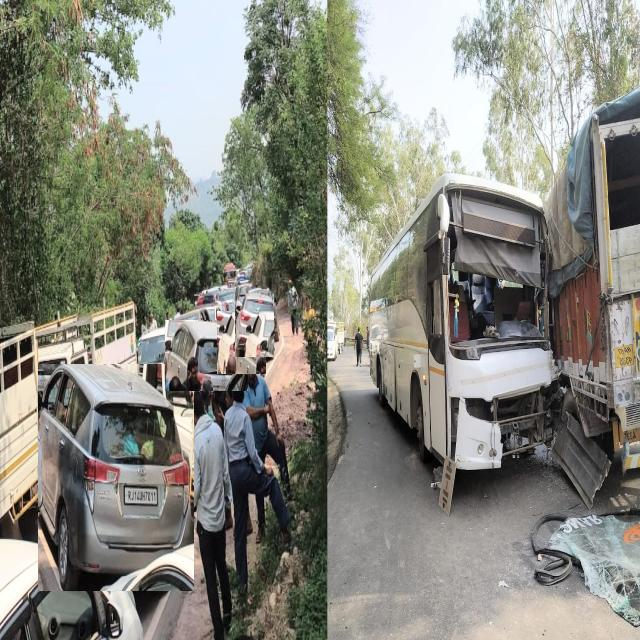accident: (369, 173, 560, 513)
car: (38, 365, 194, 591), (165, 320, 248, 391), (217, 311, 265, 374), (235, 293, 274, 357)
